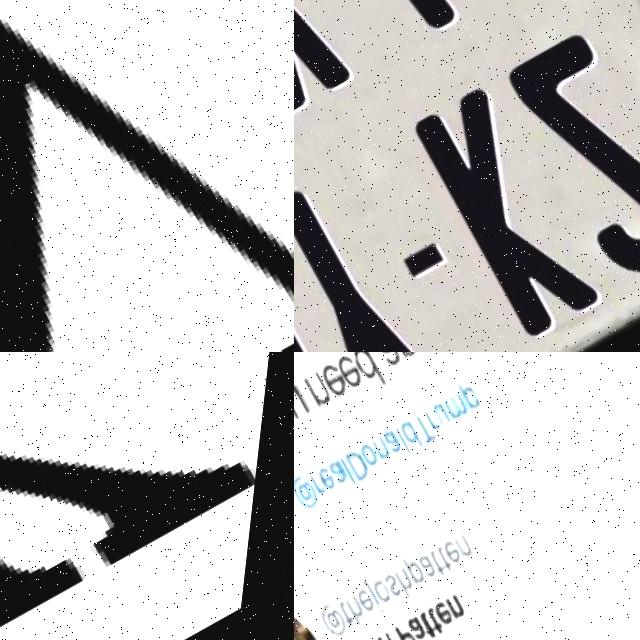2: (490, 9, 640, 282)
K: (0, 352, 294, 640), (400, 73, 627, 335)
N: (294, 213, 387, 352)
V: (0, 0, 294, 352)
Y: (294, 157, 479, 352)
